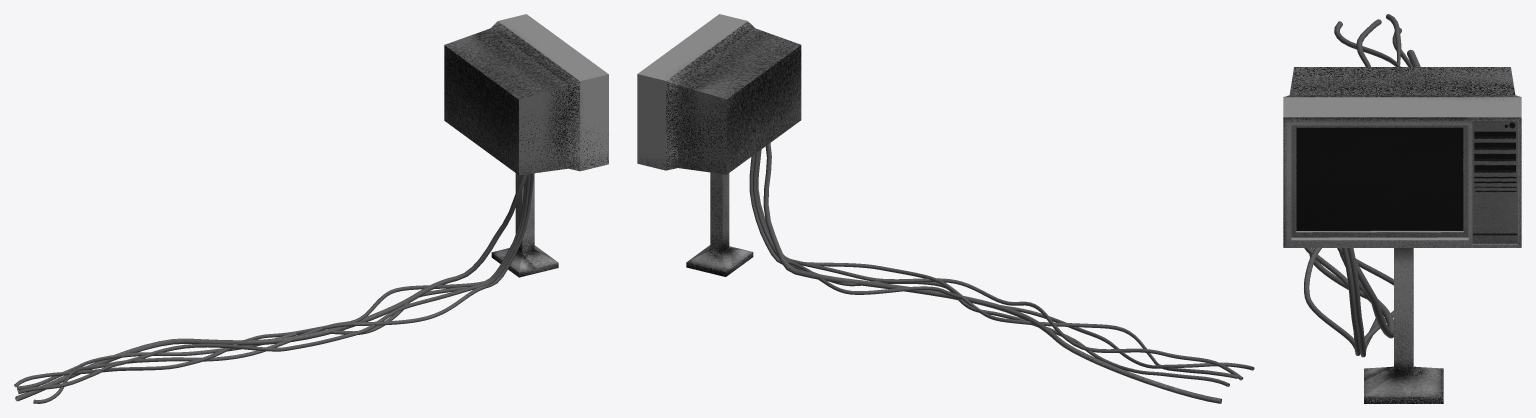
The model's file is monik_with_lever.fbx.
The picture shows the model from 3 angles, left to right: view 1: azimuth 30°, elevation 25°; view 2: azimuth 150°, elevation 25°; view 3: azimuth 270°, elevation 25°; orthographic projection. The views are drawn at different scales.
Parts seen in each view (by area): view 1: monitor.001; view 2: monitor.001; view 3: monitor.001.
Part boxes in pixels (box(x1,y1,x2,y2)): monitor.001: box(14, 14, 608, 403); monitor.001: box(637, 14, 1254, 403); monitor.001: box(1283, 14, 1521, 403).
Bounding box in the file's own units: 428 × 1674 × 646.
